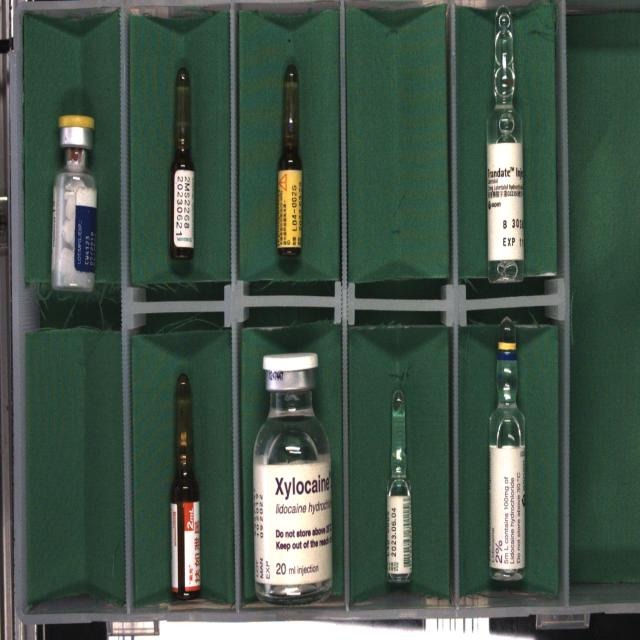Vials: (253, 353, 332, 603), (51, 115, 97, 291)
